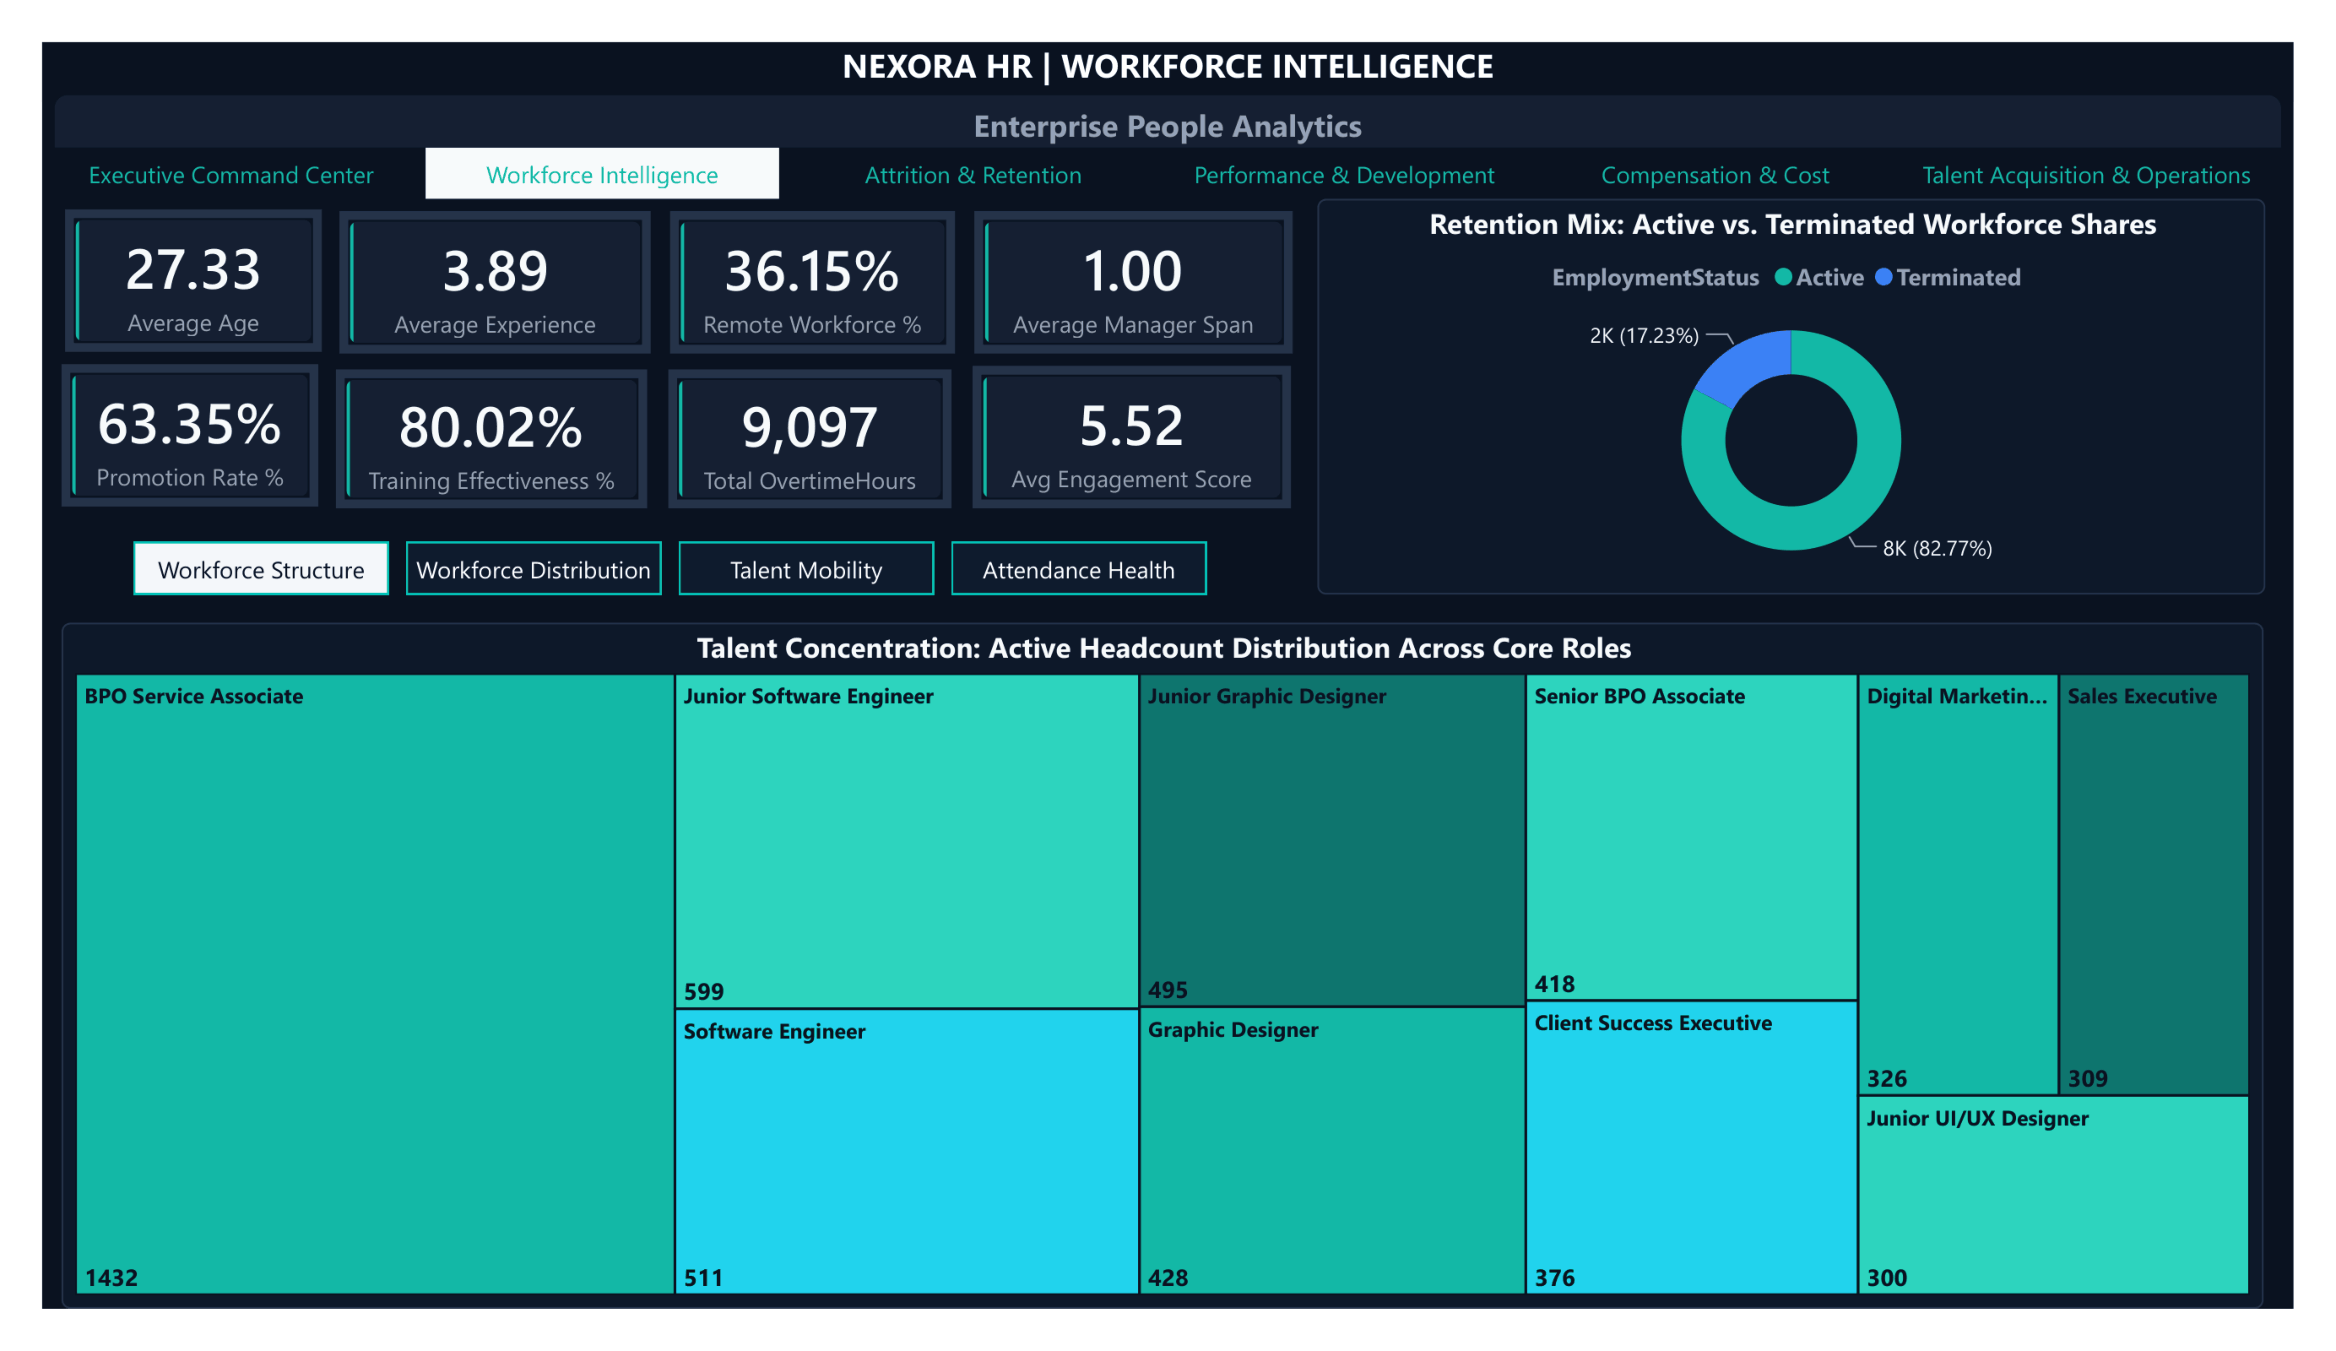

The page's visual inventory and layout, read from the dashboard file:
{"tool":"powerbi","page":{"name":"Workforce Intelligence","canvas":[1280,720],"ordinal":1},"visuals":[{"type":"shape","title":"NEXORA HR | WORKFORCE INTELLIGENCE","box":[7.1,0,1265.7,60],"z":0},{"type":"pageNavigator","box":[7.1,59.5,1255.7,29.8],"z":2000},{"type":"cardVisual","fields":{"Data":["_Measures.Average Age"]},"box":[12.8,95,146,80.8],"z":4000},{"type":"cardVisual","fields":{"Data":["_Measures.Average Experience"]},"box":[168.7,96.4,177.2,80.8],"z":6000},{"type":"cardVisual","fields":{"Data":["_Measures.Average Manager Span"]},"box":[530.1,96.4,181.4,80.8],"z":7000},{"type":"cardVisual","fields":{"Data":["_Measures.Remote Workforce %"]},"box":[357.2,96.4,161.6,80.8],"z":8000},{"type":"cardVisual","fields":{"Data":["_Measures.Internal Promotion Rate %"]},"box":[11.3,182.8,146,80.8],"z":9000},{"type":"cardVisual","fields":{"Data":["_Measures.Training Effectiveness %"]},"box":[167.2,185.7,177.2,79.4],"z":10000},{"type":"cardVisual","fields":{"Data":["Avg(FactExit.FinalEngagementScore)"]},"box":[528.7,184.3,181.4,80.8],"z":11000},{"type":"cardVisual","fields":{"Data":["Sum(FactOvertime.OvertimeHours)"]},"box":[355.7,185.7,161.6,79.4],"z":12000},{"type":"treemap","title":"Talent Concentration: Active Headcount Distribution Across Core Roles","fields":{"Group":["DimJob.JobTitle"],"Values":["_Measures.Active Employees"]},"box":[11.3,330.2,1251.5,389.8],"z":13000},{"type":"bookmarkNavigator","box":[52.1,284.3,610.2,29.8],"z":15000},{"type":"donutChart","title":"Retention Mix: Active vs. Terminated Workforce Shares","fields":{"Category":["DimEmployee.EmploymentStatus"],"Y":["_Measures.Employee Count"]},"box":[724.8,89.3,538.8,224.7],"z":19000}]}

Visuals, with their boxes in screenshot pixels (x1, y1, x2, y2), scaled from the page's 1280x720 canvas onto the 2336x1351 screenshot:
"NEXORA HR | WORKFORCE INTELLIGENCE" shape: x1=13 y1=0 x2=2323 y2=113
pageNavigator: x1=13 y1=112 x2=2305 y2=168
cardVisual - _Measures.Average Age: x1=23 y1=178 x2=290 y2=330
cardVisual - _Measures.Average Experience: x1=308 y1=181 x2=631 y2=332
cardVisual - _Measures.Average Manager Span: x1=967 y1=181 x2=1298 y2=332
cardVisual - _Measures.Remote Workforce %: x1=652 y1=181 x2=947 y2=332
cardVisual - _Measures.Internal Promotion Rate %: x1=21 y1=343 x2=287 y2=495
cardVisual - _Measures.Training Effectiveness %: x1=305 y1=348 x2=629 y2=497
cardVisual - Avg(FactExit.FinalEngagementScore): x1=965 y1=346 x2=1296 y2=497
cardVisual - Sum(FactOvertime.OvertimeHours): x1=649 y1=348 x2=944 y2=497
"Talent Concentration: Active Headcount Distribution Across Core Roles" treemap: x1=21 y1=620 x2=2305 y2=1350
bookmarkNavigator: x1=95 y1=533 x2=1209 y2=589
"Retention Mix: Active vs. Terminated Workforce Shares" donutChart: x1=1323 y1=168 x2=2306 y2=589
